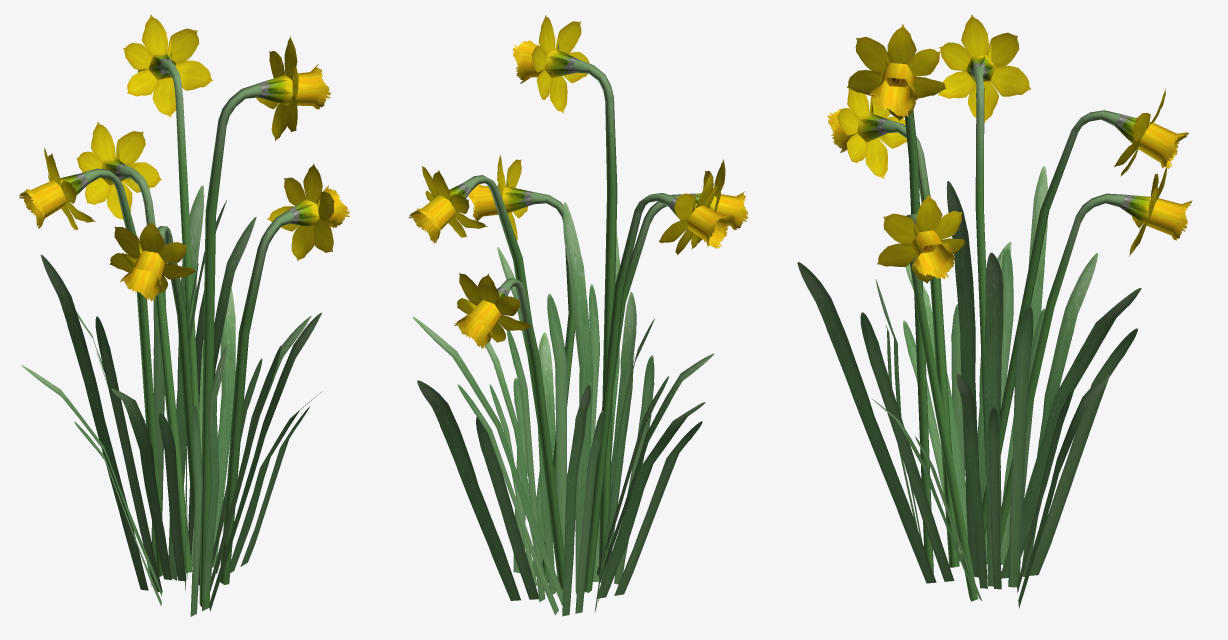
The model's file is Narcissus3Abloomer.fbx.
The picture shows the model from 3 angles, left to right: view 1: azimuth 30°, elevation 25°; view 2: azimuth 150°, elevation 25°; view 3: azimuth 270°, elevation 25°; orthographic projection. The views are drawn at different scales.
Parts seen in each view (by area): view 1: Narcissus3Abloomer; view 2: Narcissus3Abloomer; view 3: Narcissus3Abloomer.
Boxes of the visible parts, box(x1,y1,x2,y2) form: Narcissus3Abloomer: box(19, 15, 349, 616); Narcissus3Abloomer: box(409, 15, 748, 616); Narcissus3Abloomer: box(797, 15, 1192, 608).
Bounding box in the file's own units: 41.74 × 73.79 × 48.3.
